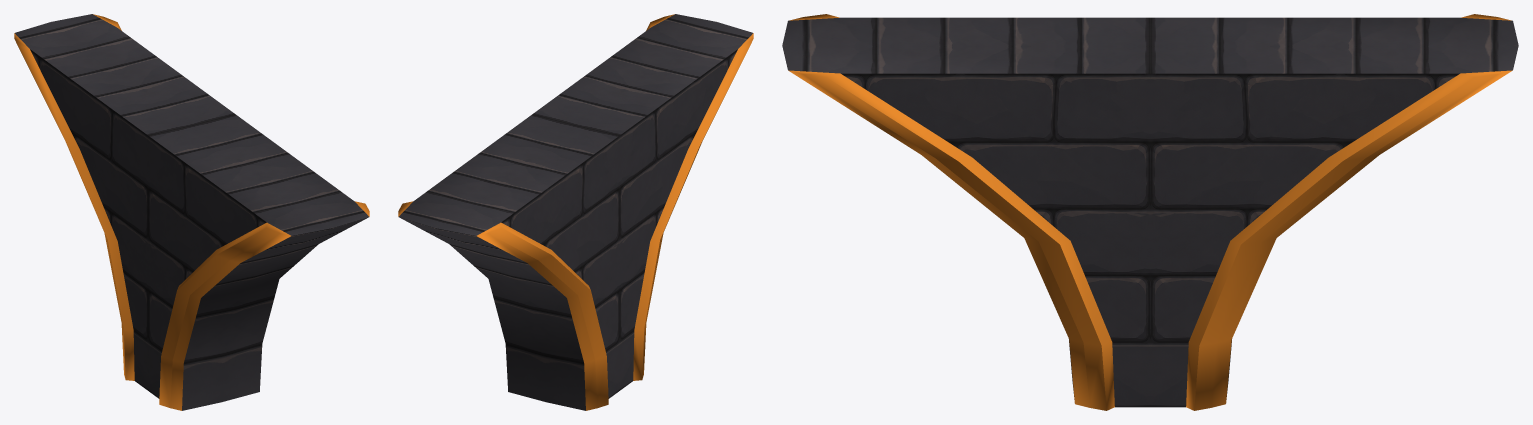
The model's file is Roof_Arch.fbx.
3 renders of one model, left to right at view 1: azimuth 30°, elevation 25°; view 2: azimuth 150°, elevation 25°; view 3: azimuth 270°, elevation 25°, orthographic. The views are drawn at different scales.
Parts seen in each view (by area): view 1: Roof_Arch; view 2: Roof_Arch; view 3: Roof_Arch.
Boxes of the visible parts, x1,y1,x2,y2 form: Roof_Arch: [14, 14, 369, 410]; Roof_Arch: [398, 14, 753, 410]; Roof_Arch: [782, 14, 1518, 410].
Bounding box in the file's own units: 1.63 × 8 × 4.
